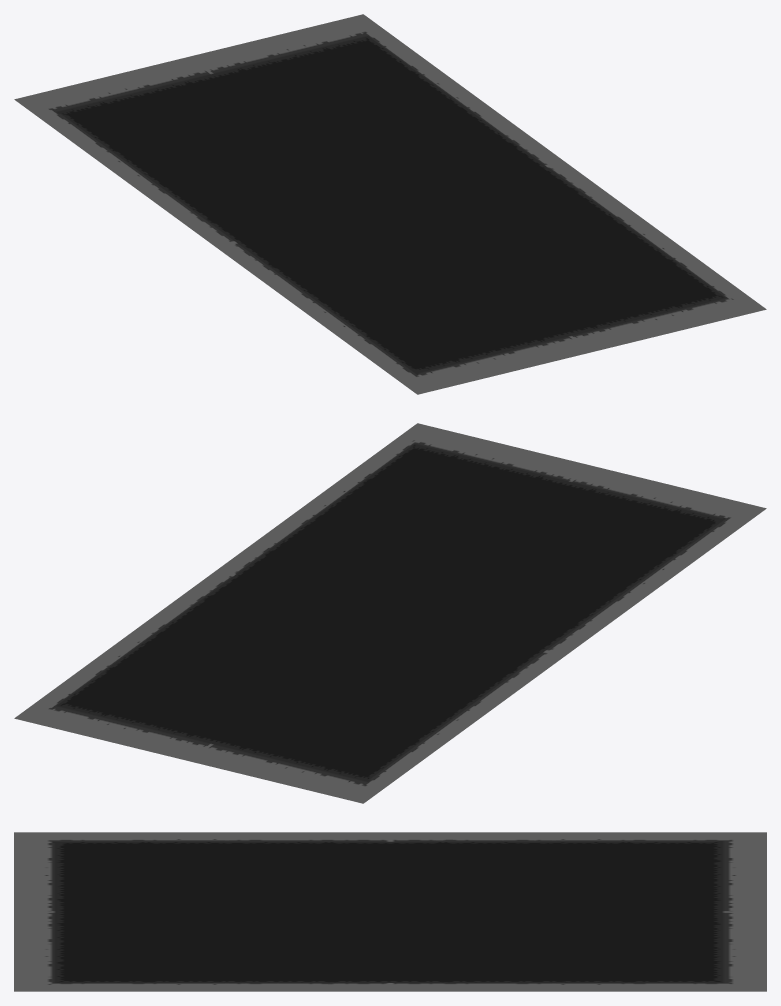
The model's file is roof_rect.FBX.
The picture shows the model from 3 angles, top to bottom: view 1: azimuth 30°, elevation 25°; view 2: azimuth 150°, elevation 25°; view 3: azimuth 270°, elevation 25°; orthographic projection. The views are drawn at different scales.
Visible parts, largest first — view 1: roof003; view 2: roof003; view 3: roof003.
Boxes of the visible parts, bbox=[...] form: roof003: bbox=[14, 14, 766, 394]; roof003: bbox=[14, 423, 766, 803]; roof003: bbox=[14, 832, 766, 991].
Bounding box in the file's own units: 147 × 1.8e-14 × 294.
1 material, 1 textured.
